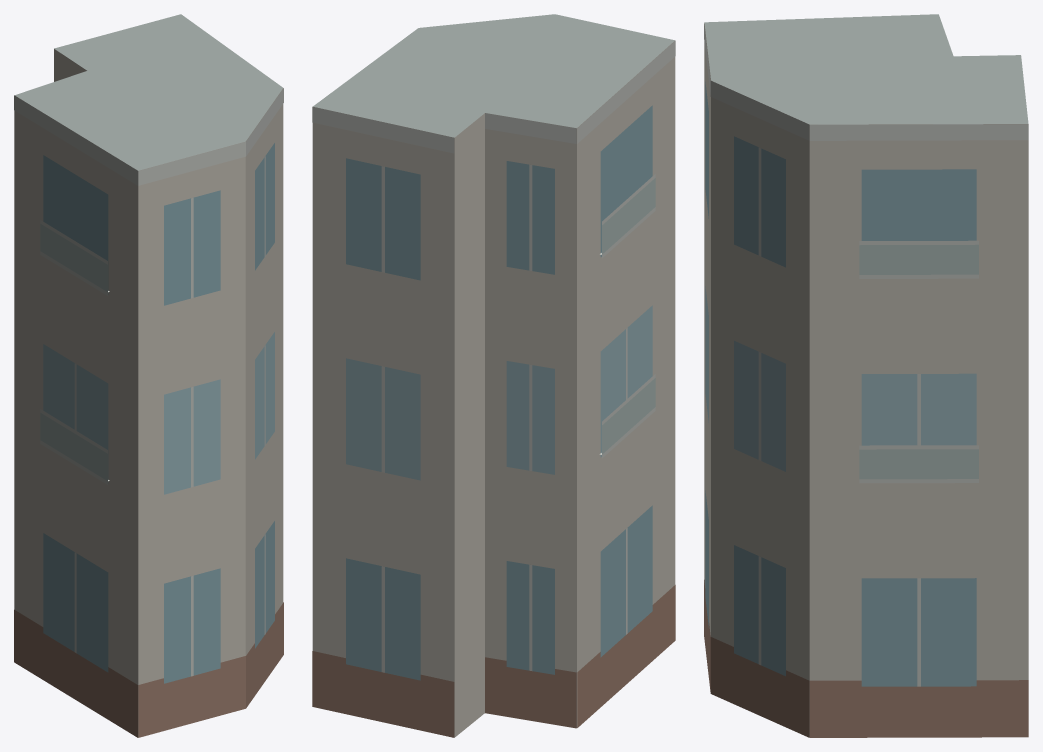
The model's file is survey-upis-32961575.glb.
3 renders of one model, left to right at view 1: azimuth 30°, elevation 25°; view 2: azimuth 150°, elevation 25°; view 3: azimuth 270°, elevation 25°, orthographic. The views are drawn at different scales.
Parts seen in each view (by area): view 1: survey-upis-32961575.tmp; view 2: survey-upis-32961575.tmp; view 3: survey-upis-32961575.tmp.
Part boxes in pixels (x1,y1,x2,y2): survey-upis-32961575.tmp: (14,14,283,737); survey-upis-32961575.tmp: (312,14,675,737); survey-upis-32961575.tmp: (704,14,1028,737).
Size of the model in its own units: 3.58 by 9.15 by 4.4.
